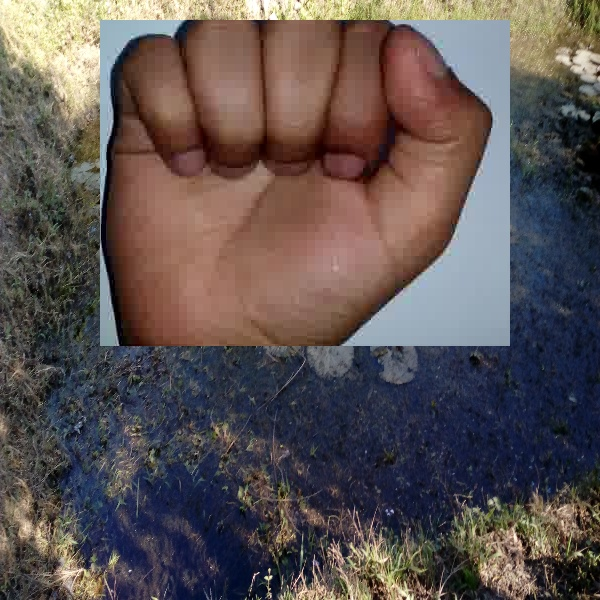A: (100, 20, 510, 346)
